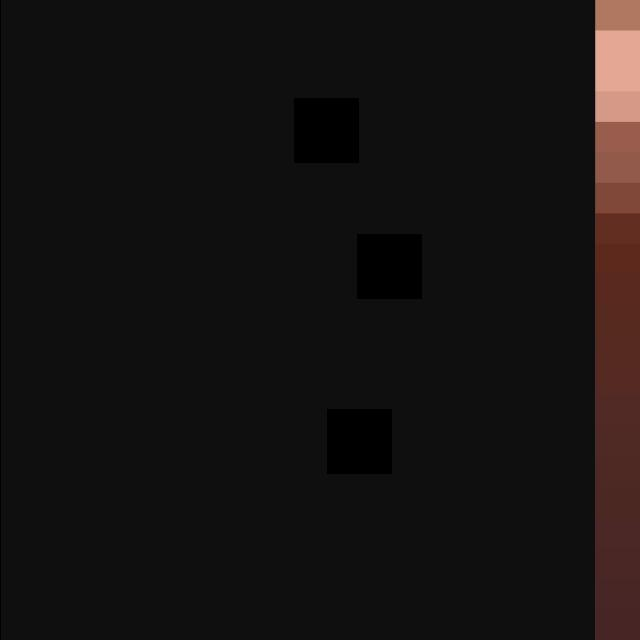nofire: (0, 0, 595, 640)
